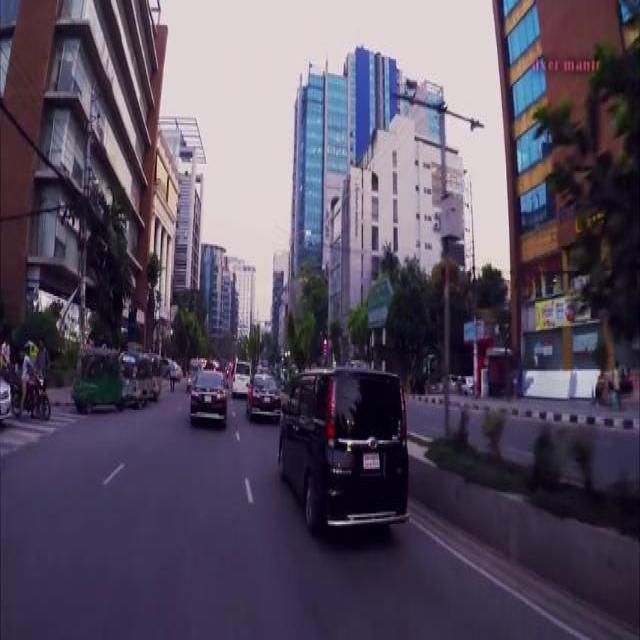car: (187, 365, 228, 419), (245, 371, 280, 415)
motorcycle: (69, 344, 124, 412), (9, 369, 49, 415), (119, 351, 148, 405), (149, 351, 161, 396), (184, 355, 201, 385)
truck: (277, 364, 410, 531), (229, 357, 250, 392)
